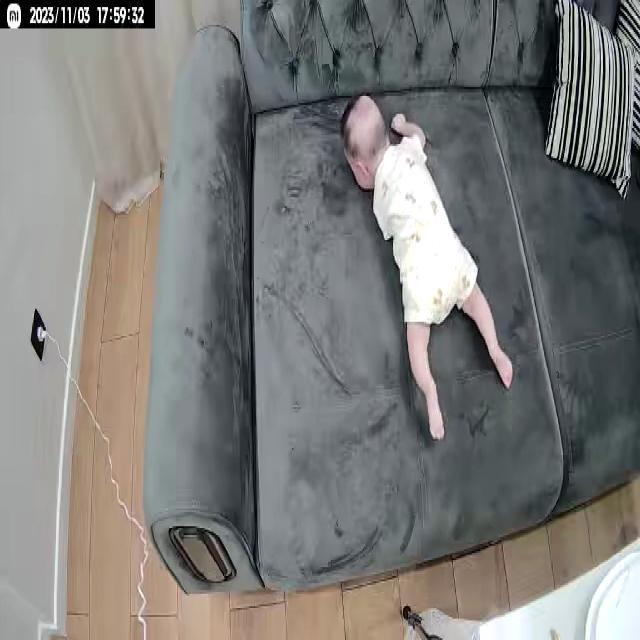baby: (340, 94, 517, 449)
